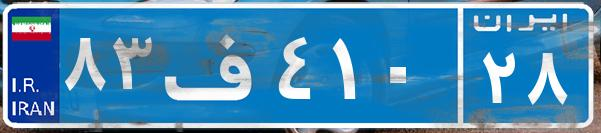0: (385, 28, 445, 110)
1: (330, 28, 385, 110)
2: (475, 38, 525, 113)
3: (110, 28, 158, 105)
4: (273, 28, 330, 110)
8: (57, 26, 110, 107), (525, 38, 570, 115)
ف: (158, 15, 273, 115)
